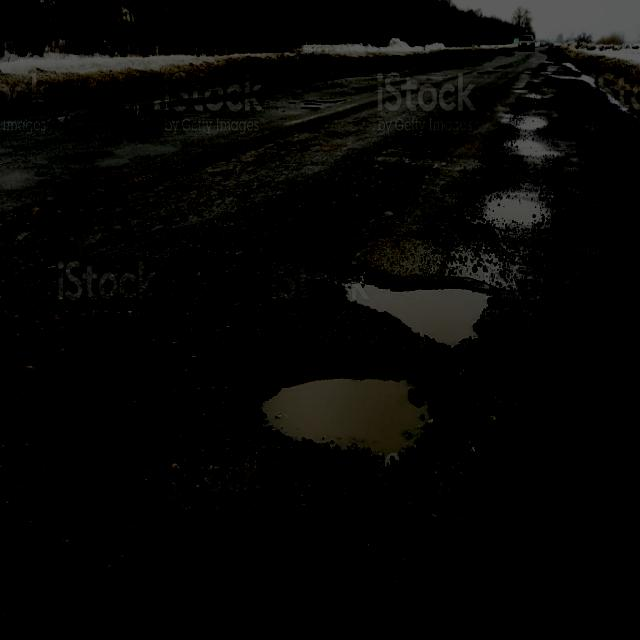Pothole: (234, 252, 508, 497)
